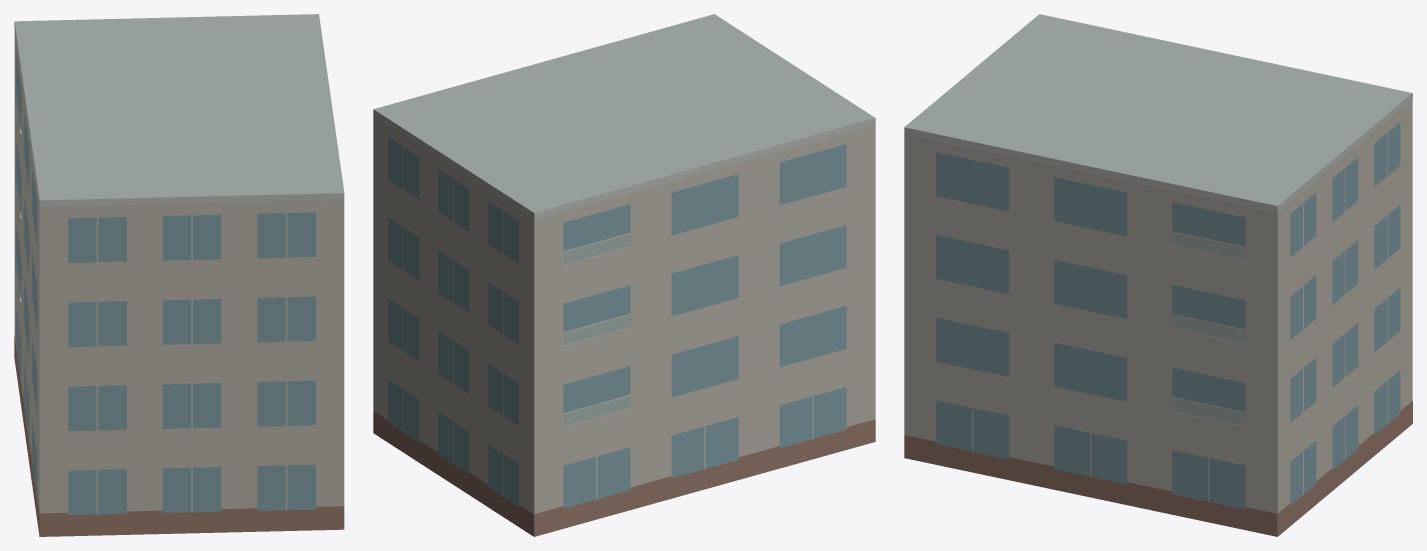
The model's file is survey-upis-32705802.glb.
The picture shows the model from 3 angles, left to right: view 1: azimuth 30°, elevation 25°; view 2: azimuth 150°, elevation 25°; view 3: azimuth 270°, elevation 25°; orthographic projection. The views are drawn at different scales.
Parts seen in each view (by area): view 1: survey-upis-32705802.tmp; view 2: survey-upis-32705802.tmp; view 3: survey-upis-32705802.tmp.
Boxes of the visible parts, <box> form: survey-upis-32705802.tmp: <box>14,14,344,536</box>; survey-upis-32705802.tmp: <box>373,14,875,536</box>; survey-upis-32705802.tmp: <box>904,14,1412,536</box>.
Size of the model in its own units: 15.21 by 12.2 by 17.01.
